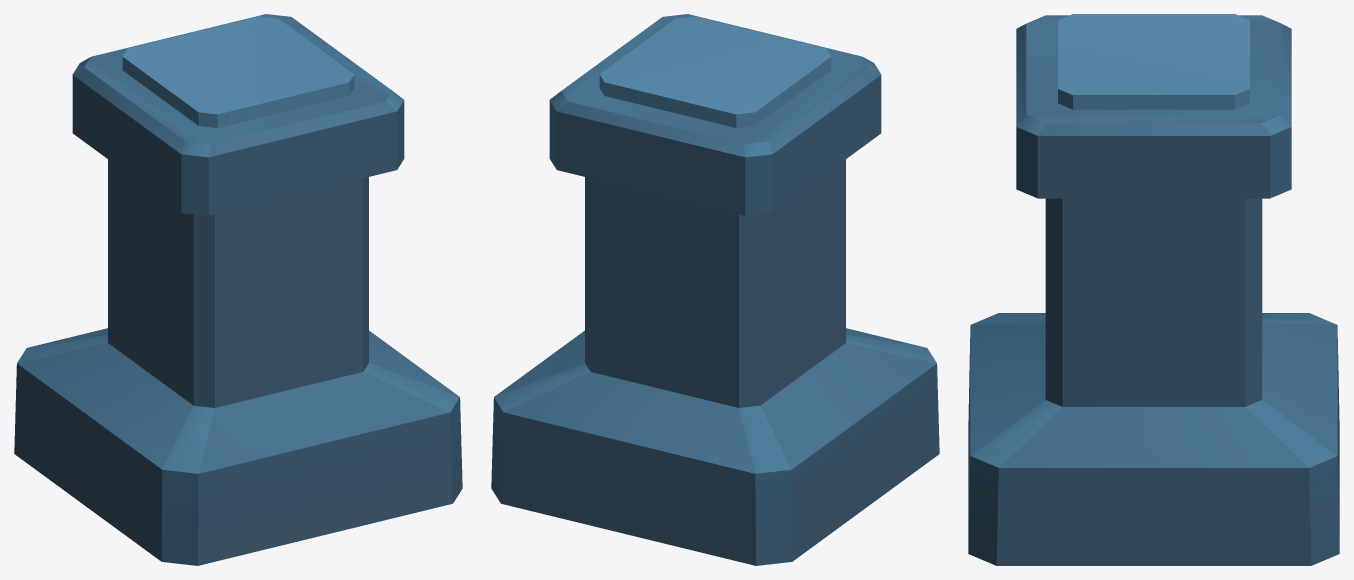
Rendered from Edge Pillar Corner 01.002.fbx.
3 renders of one model, left to right at view 1: azimuth 30°, elevation 25°; view 2: azimuth 150°, elevation 25°; view 3: azimuth 270°, elevation 25°, orthographic. The views are drawn at different scales.
Visible parts, largest first — view 1: Edge Pillar Corner 01.002; view 2: Edge Pillar Corner 01.002; view 3: Edge Pillar Corner 01.002.
Boxes of the visible parts, left/top/right/bottom form: Edge Pillar Corner 01.002: left=14, top=14, right=462, bottom=565; Edge Pillar Corner 01.002: left=491, top=14, right=939, bottom=565; Edge Pillar Corner 01.002: left=968, top=14, right=1339, bottom=565.
Size of the model in its own units: 60.45 by 77.88 by 60.47.
